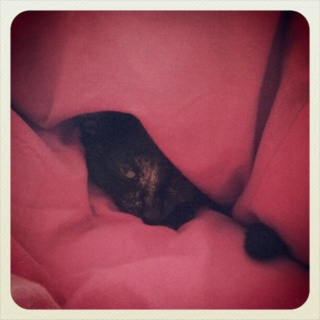Cat: (79, 112, 283, 260)
